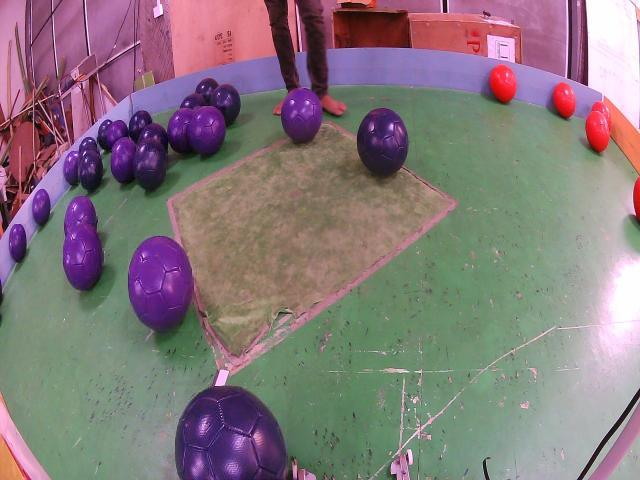jambhalya: (128, 236, 193, 331), (64, 224, 103, 290), (282, 88, 322, 142), (189, 106, 226, 156), (65, 195, 97, 235), (169, 107, 194, 153), (110, 139, 136, 183), (107, 120, 128, 151), (33, 188, 50, 225), (9, 225, 26, 261), (64, 152, 79, 184)
kaalyya: (176, 386, 287, 479), (356, 108, 409, 177), (133, 138, 167, 190), (210, 83, 241, 127), (79, 151, 102, 191), (139, 123, 169, 151), (128, 110, 153, 143), (196, 79, 219, 104), (98, 120, 112, 151), (181, 94, 207, 109), (78, 137, 98, 153), (80, 145, 98, 157)
